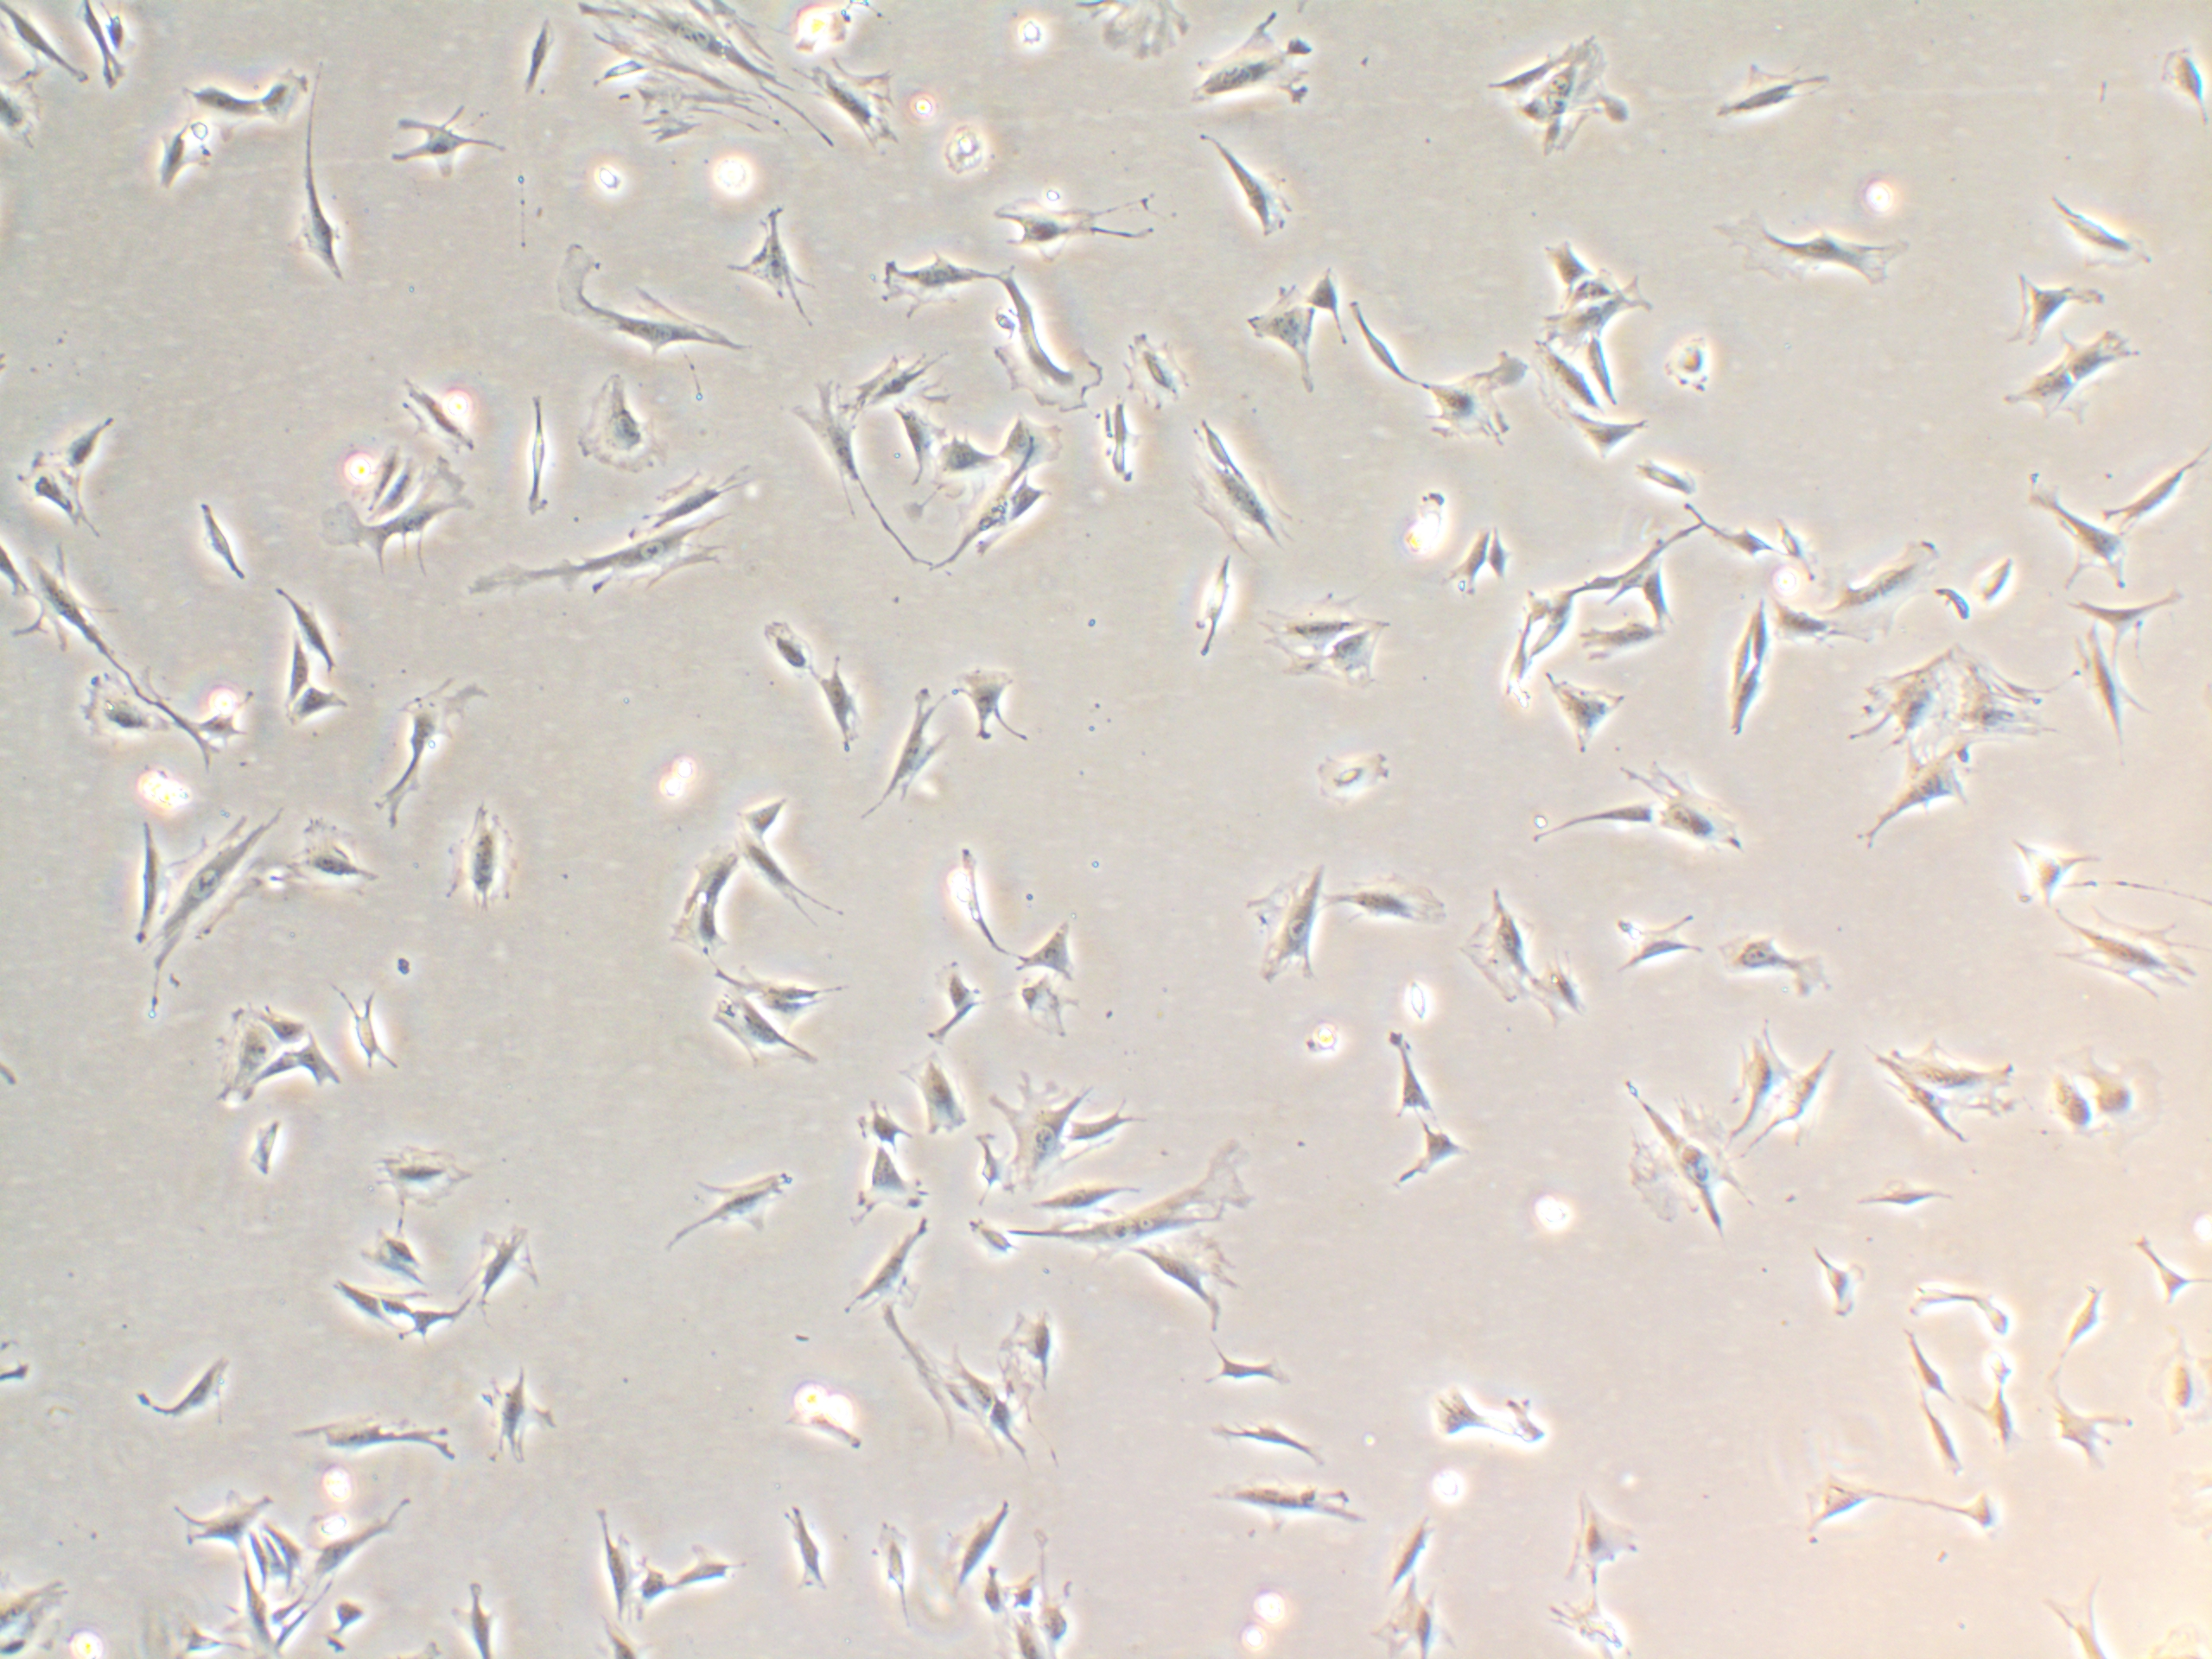spread: (580, 0, 836, 150), (1594, 1080, 1771, 1244), (1033, 1141, 1271, 1253), (152, 802, 282, 986), (1865, 1026, 2050, 1152), (1493, 24, 1630, 169), (1808, 538, 1968, 648), (2054, 904, 2203, 1014), (1836, 641, 1970, 762), (1174, 434, 1296, 565), (1181, 10, 1324, 117), (1240, 852, 1350, 983), (927, 1358, 1055, 1467), (1947, 638, 2067, 755), (343, 1133, 488, 1229), (570, 369, 669, 491), (432, 805, 531, 925), (1442, 885, 1538, 1007), (995, 1073, 1083, 1201), (273, 814, 397, 901), (1254, 592, 1376, 667), (1320, 619, 1393, 694)
